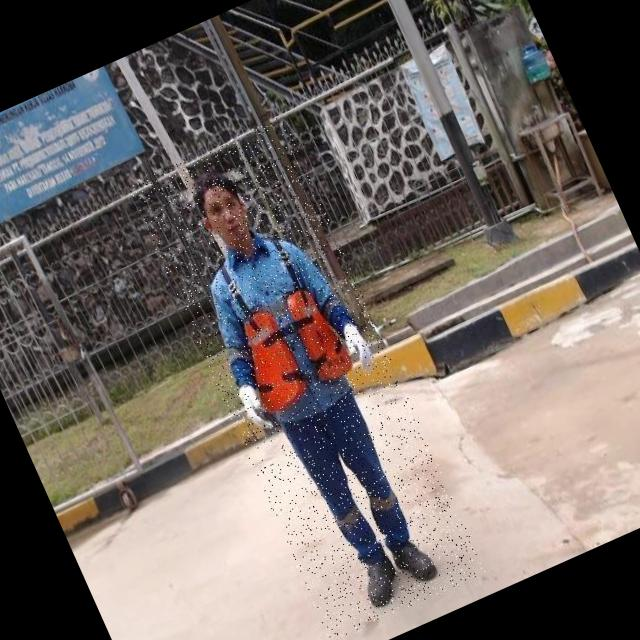safety_vest: (226, 283, 360, 417)
vehicle: (127, 115, 486, 640)
work_boots: (352, 542, 409, 612), (388, 527, 446, 592)
